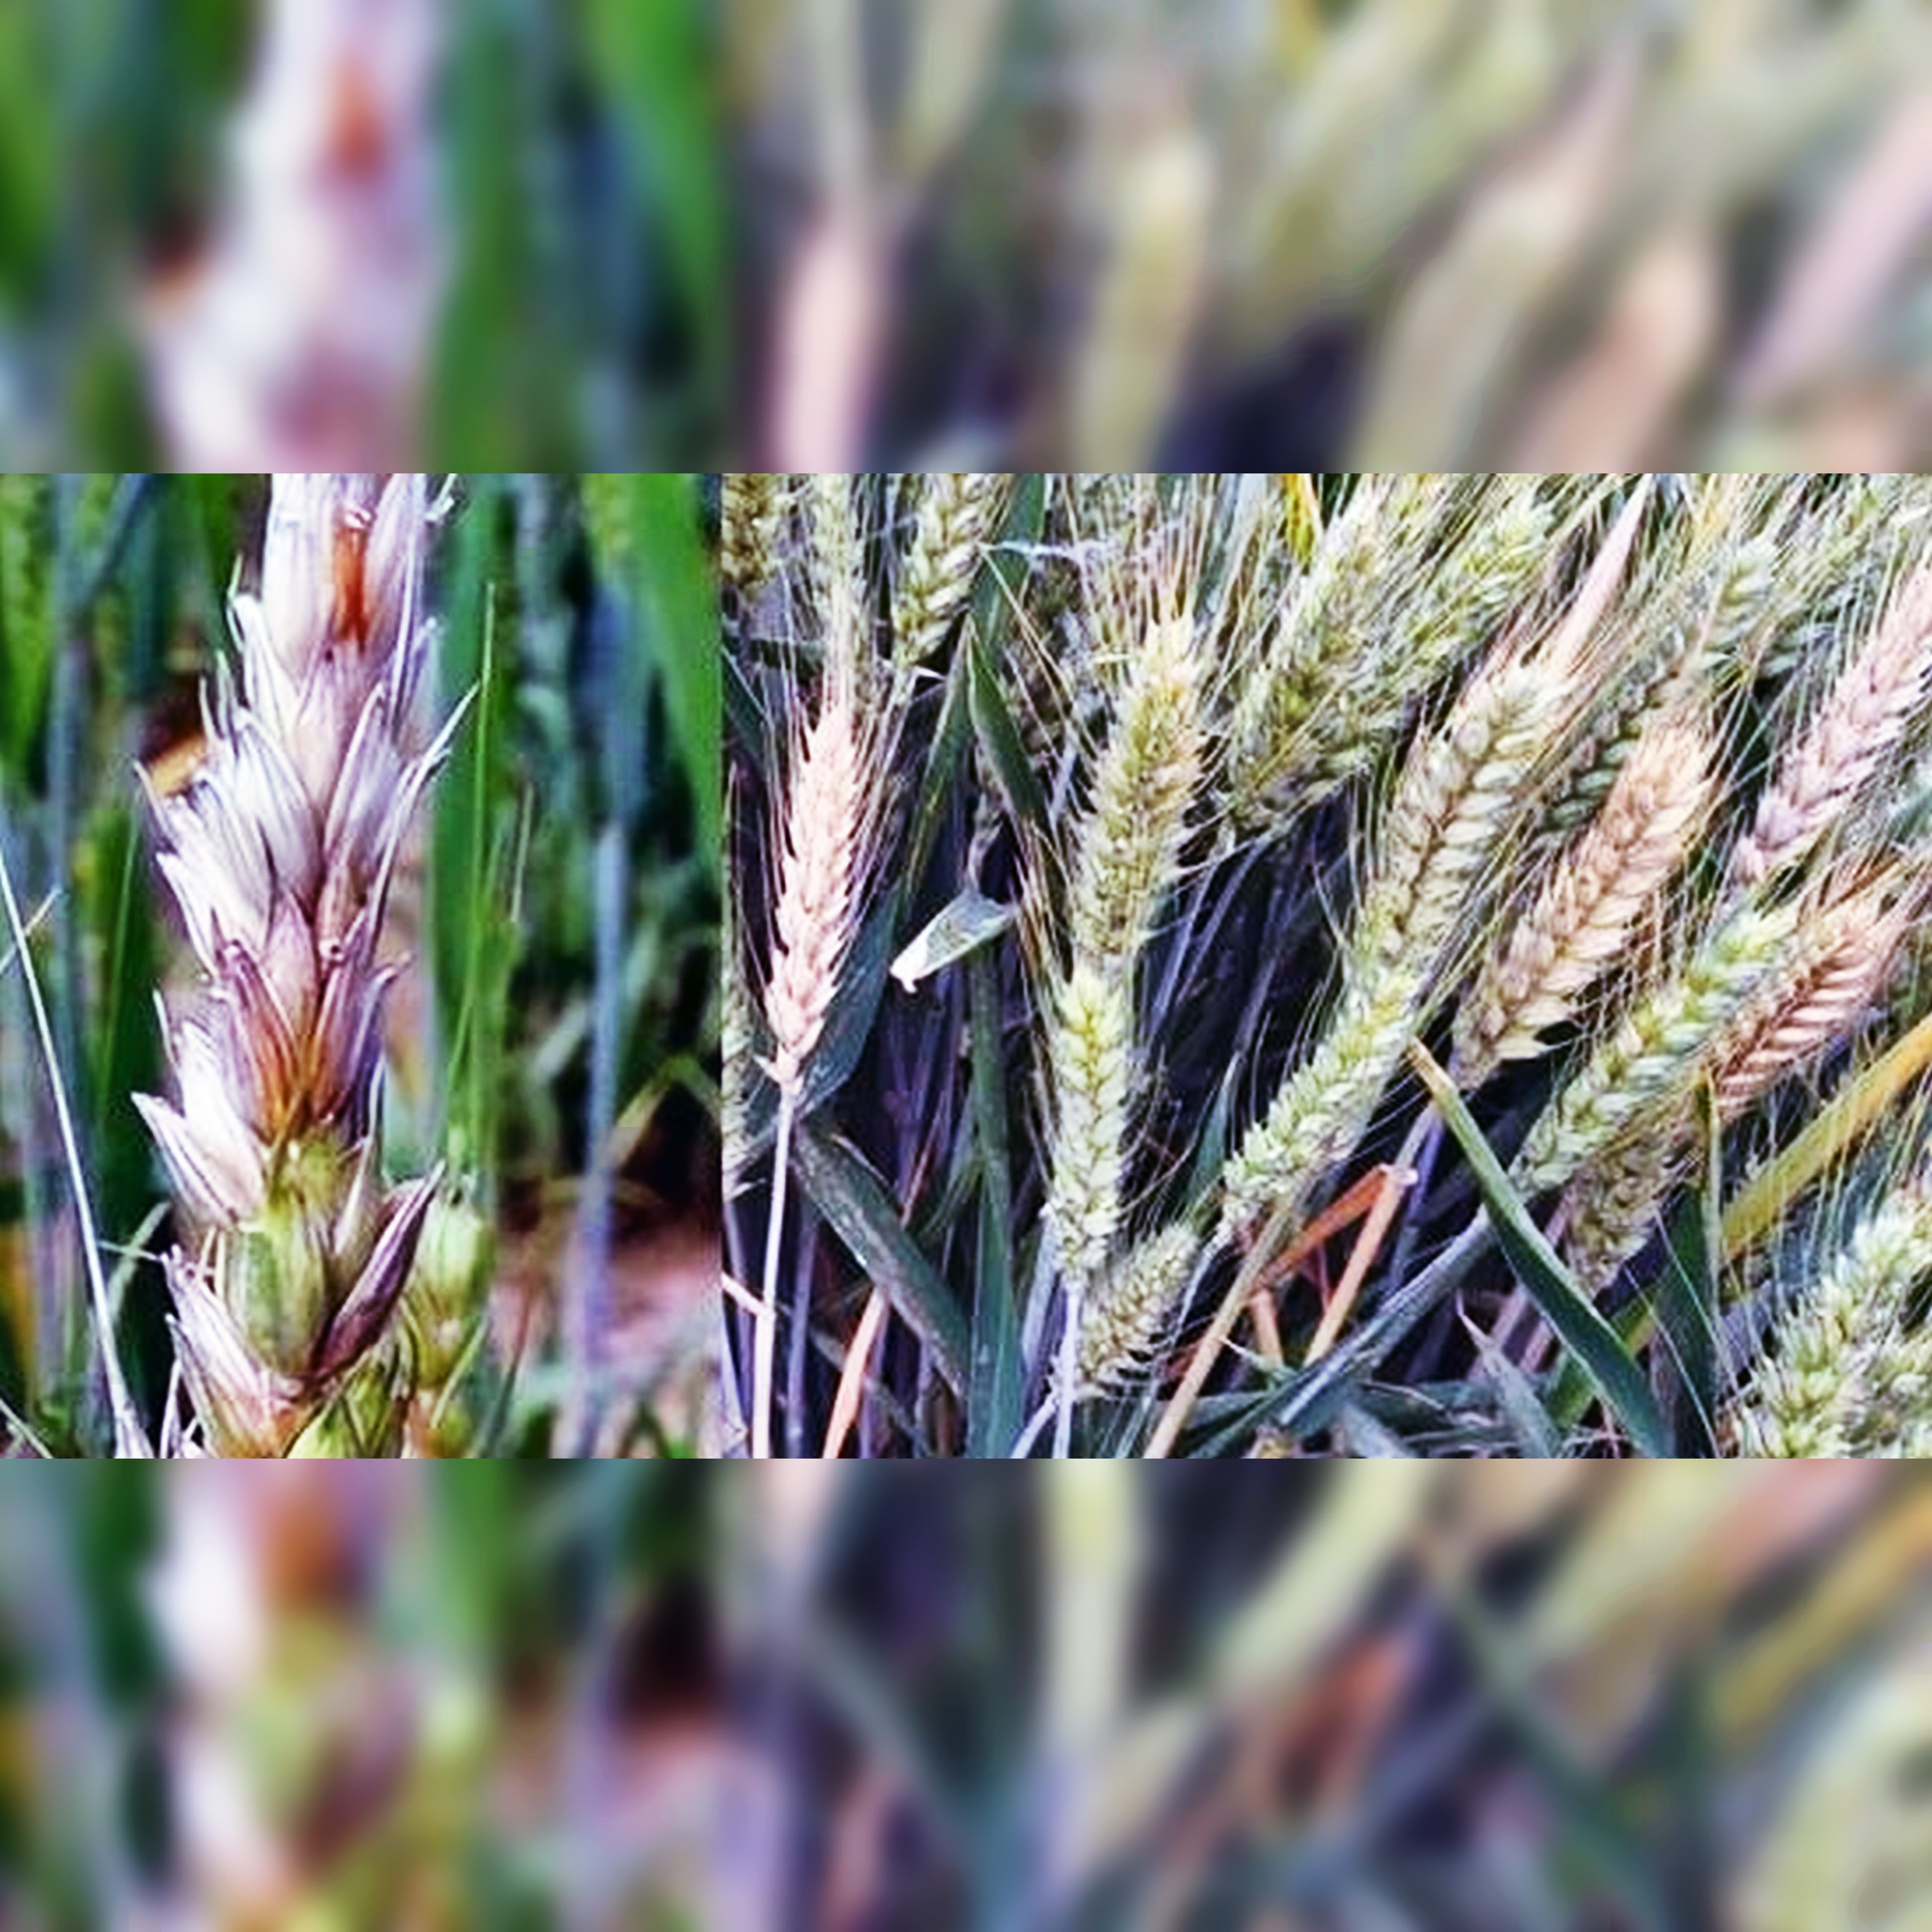Wheat scab: (103, 483, 527, 1442), (747, 683, 916, 1092)
